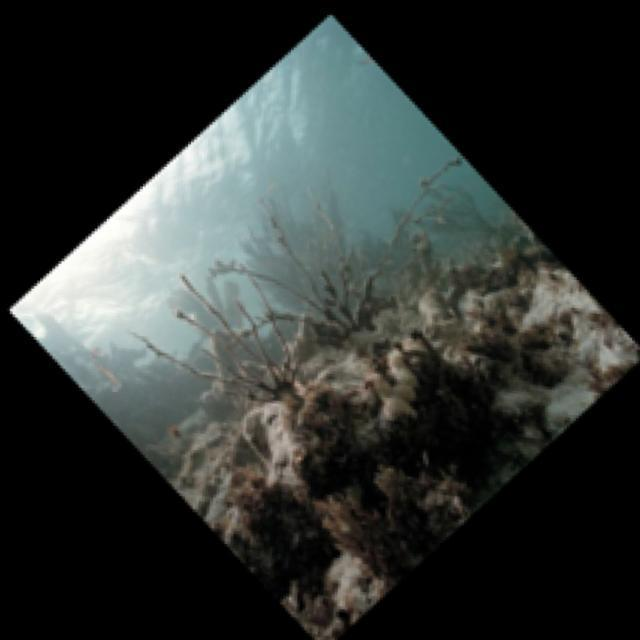Dead Coral: (290, 375, 464, 588)
